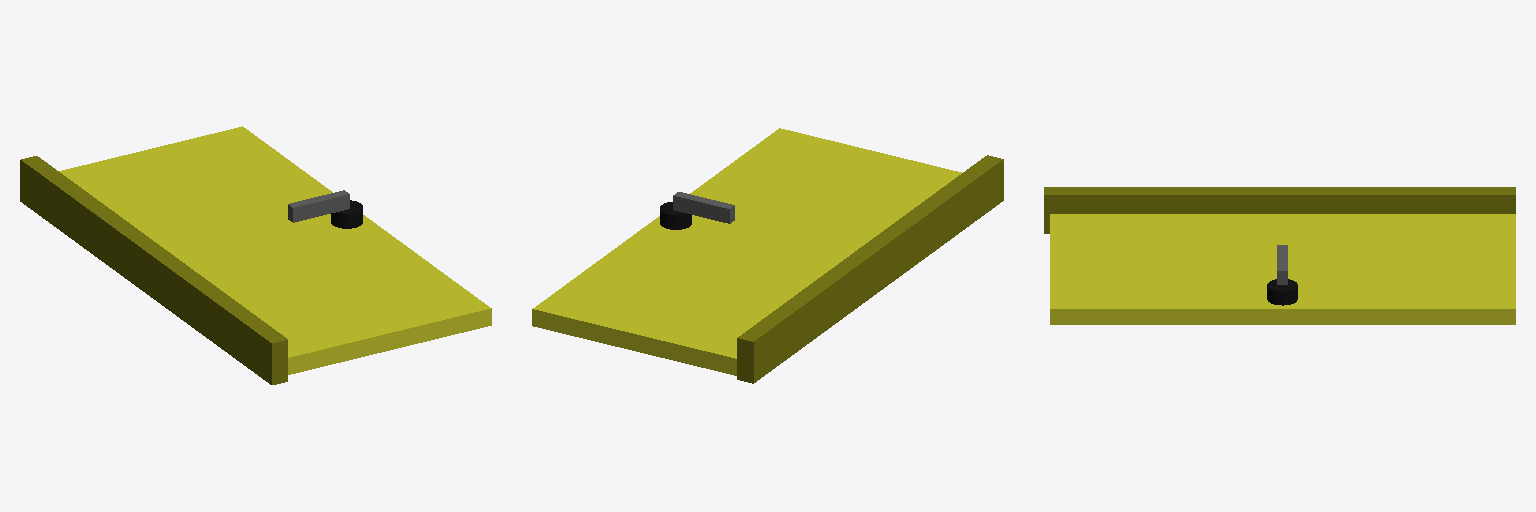
URDF robot description (door):
<robot name="door">
  
  <link name="door_pole">
    <visual>
      <origin xyz="0 0.46 0" rpy="0 0 0"/>
      <geometry>
        <box size="0.035 0.92 0.085"/>
      </geometry>
      <material name="dark_yellow">
        <color rgba="0.5 0.5 0.1 1"/>
      </material>
    </visual>	
    <collision>
      <origin xyz="0 0.46 0" rpy="0 0 0"/>
      <geometry>
        <box size="0.035 0.92 0.085"/>
      </geometry>
    </collision>
  </link>

  <link name="door_panel">
    <visual>
      <origin xyz="0.2175 0.465 -0.0175" rpy="0 0 0"/>
      <geometry>
        <box size="0.435 0.91 0.035"/>
      </geometry>
      <material name="b">
        <color rgba="0.8 0.8 0.2 1"/>
      </material>
    </visual>	
    <collision>
      <origin xyz="0.2175 0.465 -0.0175" rpy="0 0 0"/>
      <geometry>
        <box size="0.435 0.91 0.035"/>
      </geometry>
    </collision>
  </link>

  <link name="door_handle_axel">
    <visual>
      <origin rpy="0 0 1"/>
      <geometry>
        <cylinder radius="0.03" length="0.03"/>
      </geometry>
      <material name="black">
        <color rgba="0.1 0.1 0.1 1.0"/>
      </material>
    </visual>	
    <collision>
      <origin rpy="0 0 1"/>
      <geometry>
        <cylinder radius="0.03" length="0.03"/>
      </geometry>
    </collision>
  </link>

  <link name="door_handle">
    <visual>
      <origin xyz="-0.06 0 0"/>
      <geometry>
        <box size="0.12 0.02 0.03"/>
      </geometry>
      <material name="silver">
        <color rgba="0.4 0.4 0.4 1"/>
      </material>
    </visual>
    <collision>
      <origin xyz="-0.06 0 0"/>
      <geometry>
        <box size="0.12 0.02 0.03"/>
      </geometry>
    </collision>
  </link>

  <joint name="door_panel_pole" type="revolute">
    <parent link="door_pole"/>
    <child link="door_panel"/>
    <origin xyz="0.0175 0 0"/>
    <axis xyz="0 1 0"/>
    <limit lower="-1.57" upper="0" effort="100" velocity="3"/>
  </joint>
  
  <joint name="door_handle_axel_panel" type="fixed">
    <parent link="door_panel"/>
    <child link="door_handle_axel"/>
    <origin xyz="0.3925 0.465 0.01575"/>
  </joint>

  <joint name="door_handle_axel" type="revolute">
    <parent link="door_handle_axel"/>
    <child link="door_handle"/>
    <origin xyz="0 0 0.03"/>
    <axis xyz="0 0 1"/>
    <limit lower="-1.57" upper="1.57" effort="100" velocity="3"/>
  </joint>

</robot>

--- Render facts (derived) ---
3 views of the same robot in one strip: view 1: azimuth 30°, elevation 25°; view 2: azimuth 150°, elevation 25°; view 3: azimuth 270°, elevation 25° (orthographic).
Robot: door — 4 links, 3 joints (2 revolute, 1 fixed); root link door_pole; default pose: every joint at zero.
Visible links, largest first — view 1: door_panel, door_pole, door_handle, door_handle_axel; view 2: door_panel, door_pole, door_handle, door_handle_axel; view 3: door_panel, door_pole, door_handle_axel.
Link boxes in pixels (box(x1,y1,x2,y2)): door_panel: box(59, 126, 491, 374); door_pole: box(20, 156, 287, 384); door_handle: box(288, 190, 349, 222); door_handle_axel: box(331, 200, 362, 228); door_panel: box(532, 128, 961, 375); door_pole: box(737, 155, 1003, 383); door_handle: box(673, 192, 734, 223); door_handle_axel: box(660, 202, 691, 229); door_panel: box(1050, 214, 1515, 324); door_pole: box(1044, 187, 1515, 233); door_handle_axel: box(1267, 279, 1297, 305).
Size in the robot's own frame: 0.47 by 0.92 by 0.1032 metres.
Geometry: primitives only (box / cylinder / sphere), no mesh files.
